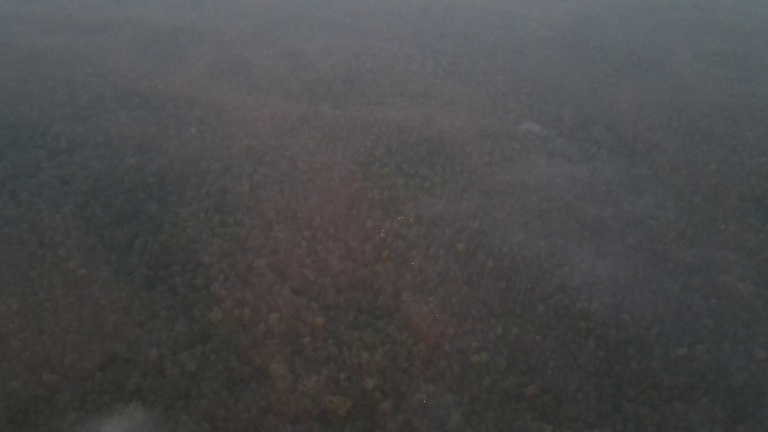fire: (375, 212, 417, 240), (427, 295, 440, 320), (403, 257, 416, 267), (420, 396, 430, 406)
smoke: (95, 400, 170, 432), (514, 120, 547, 140)
